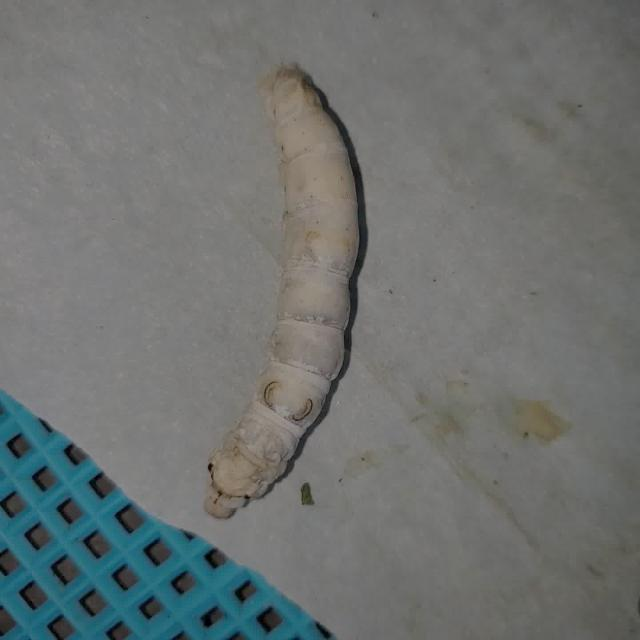Grasserie: (175, 51, 378, 548)
